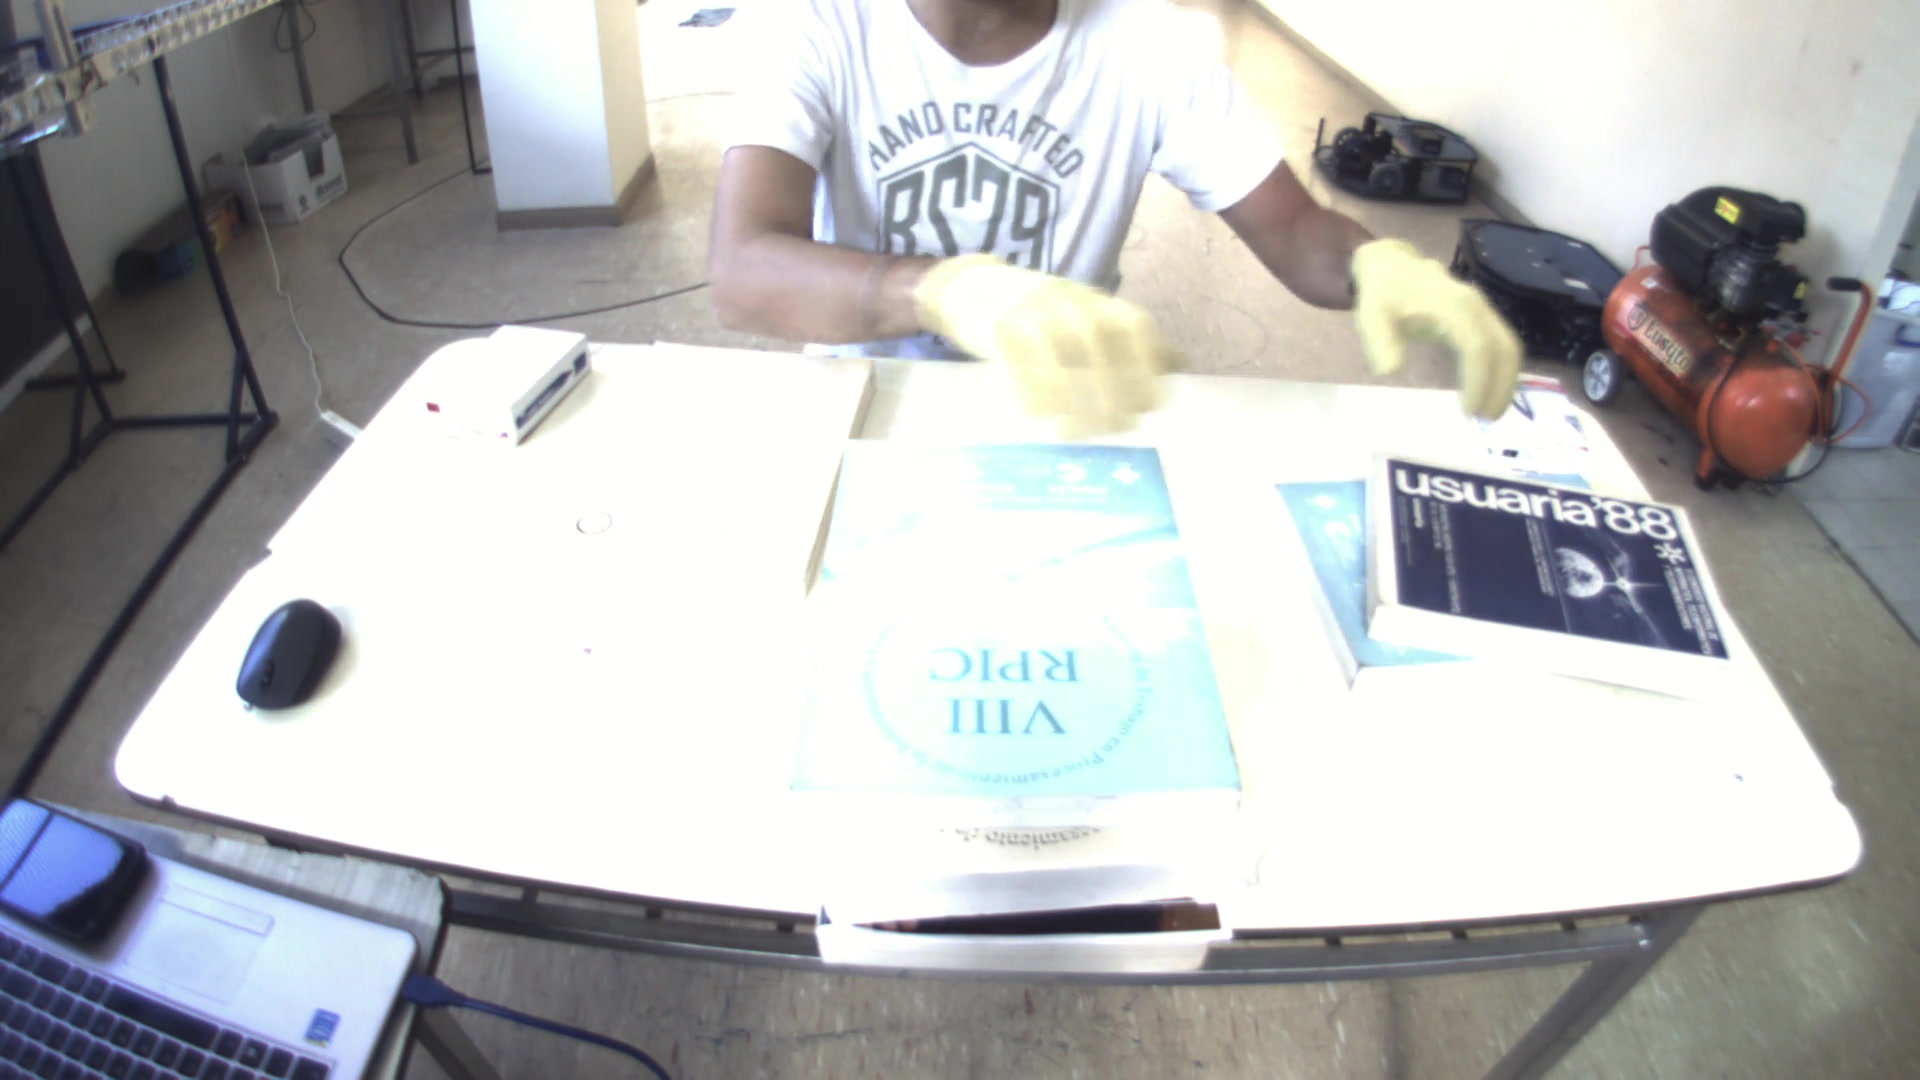hand: (905, 237, 1192, 435), (1338, 225, 1534, 430)
